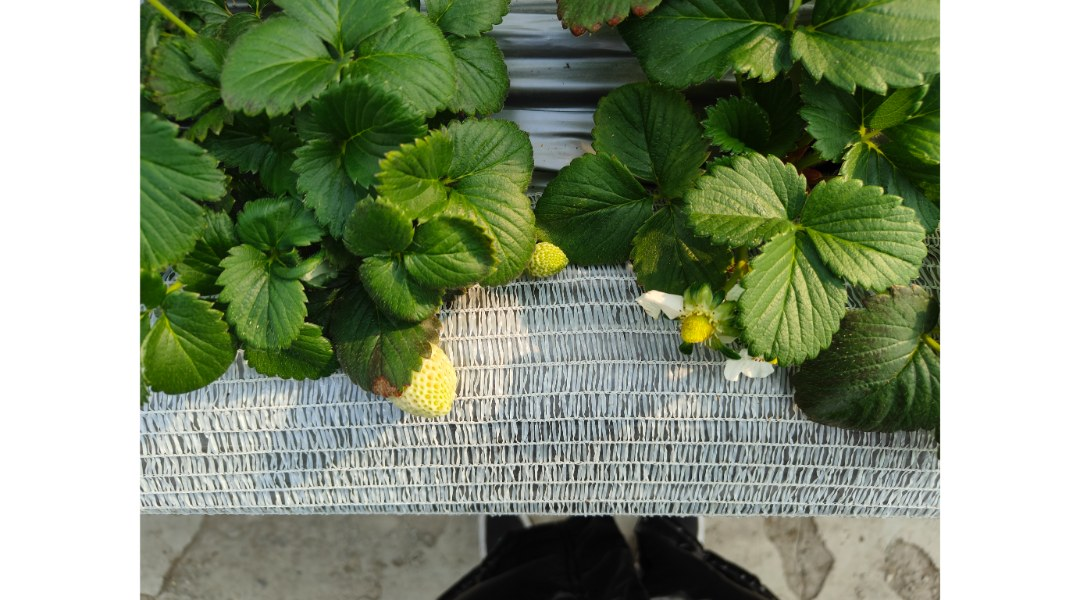berry: (368, 317, 459, 430), (660, 291, 739, 358)
